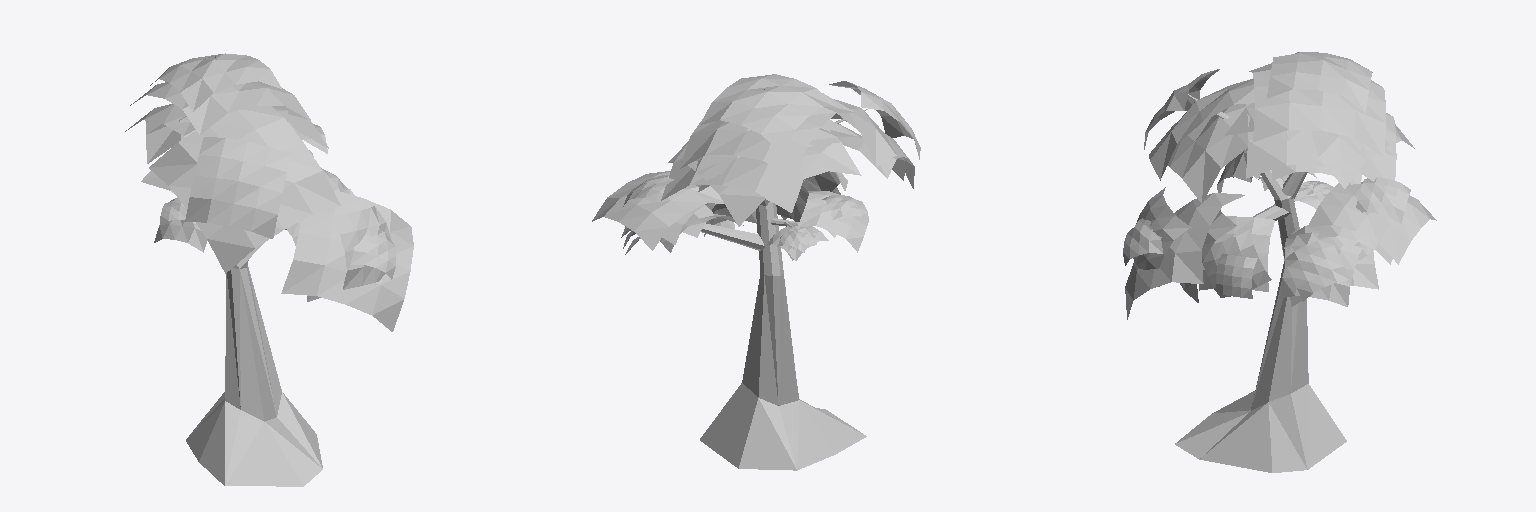
Rendered from game_tree3.obj.
3 views of the same model, side by side, from view 1: azimuth 30°, elevation 25°; view 2: azimuth 150°, elevation 25°; view 3: azimuth 270°, elevation 25° (orthographic).
Visible parts, largest first — view 1: Plane; view 2: Plane; view 3: Plane.
Part boxes in pixels (x1,y1,x2,y2): Plane: (125,53,413,486); Plane: (592,74,920,470); Plane: (1123,52,1436,472).
Size of the model in its own units: 5.21 by 8.07 by 6.03.